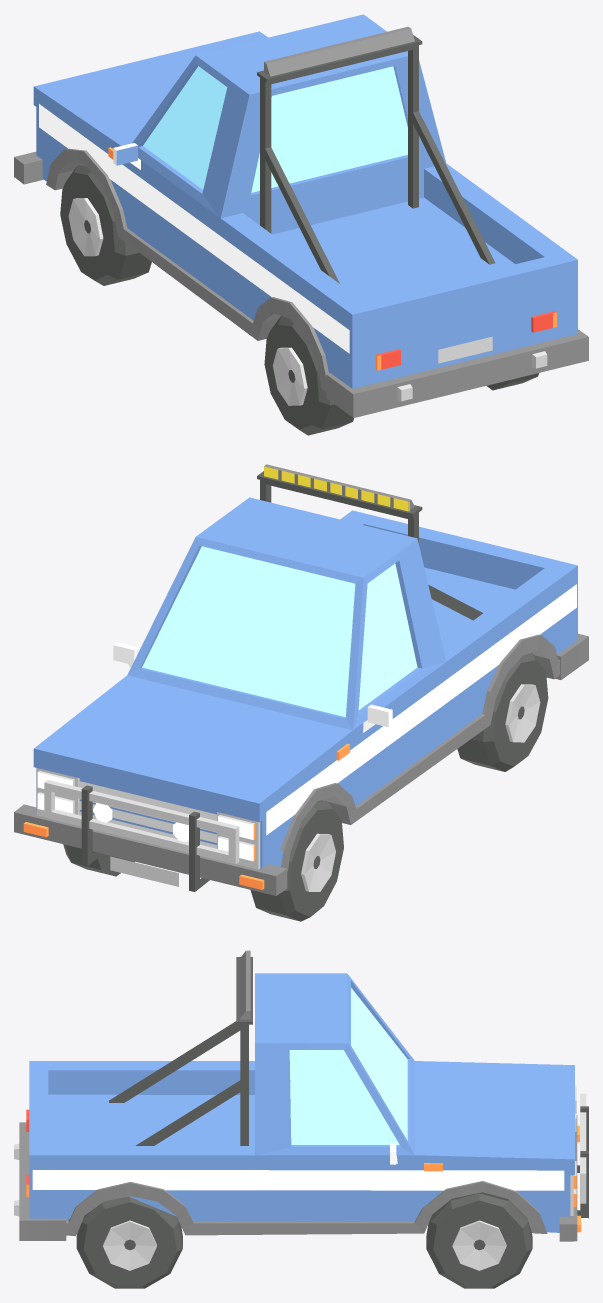
The model's file is transport_jeep.002.glb.
3 renders of one model, top to bottom at view 1: azimuth 30°, elevation 25°; view 2: azimuth 150°, elevation 25°; view 3: azimuth 270°, elevation 25°, orthographic. The views are drawn at different scales.
Visible parts, largest first — view 1: transport_jeep.002(Clone); view 2: transport_jeep.002(Clone); view 3: transport_jeep.002(Clone).
Boxes of the visible parts, box(x1,y1,x2,y2) form: transport_jeep.002(Clone): box(14, 14, 588, 435); transport_jeep.002(Clone): box(14, 464, 588, 921); transport_jeep.002(Clone): box(14, 950, 588, 1288).
Bounding box in the file's own units: 1.79 × 1.9 × 3.77.
Materials: 1 (1 with a texture image).
